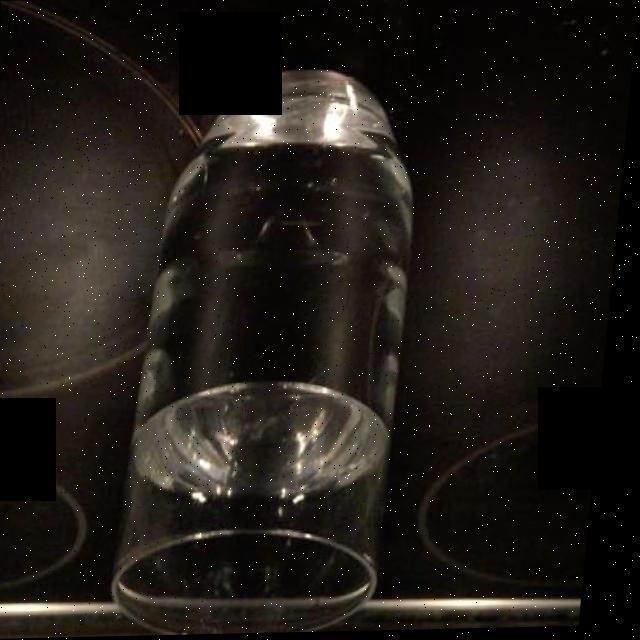water: (136, 150, 415, 501)
